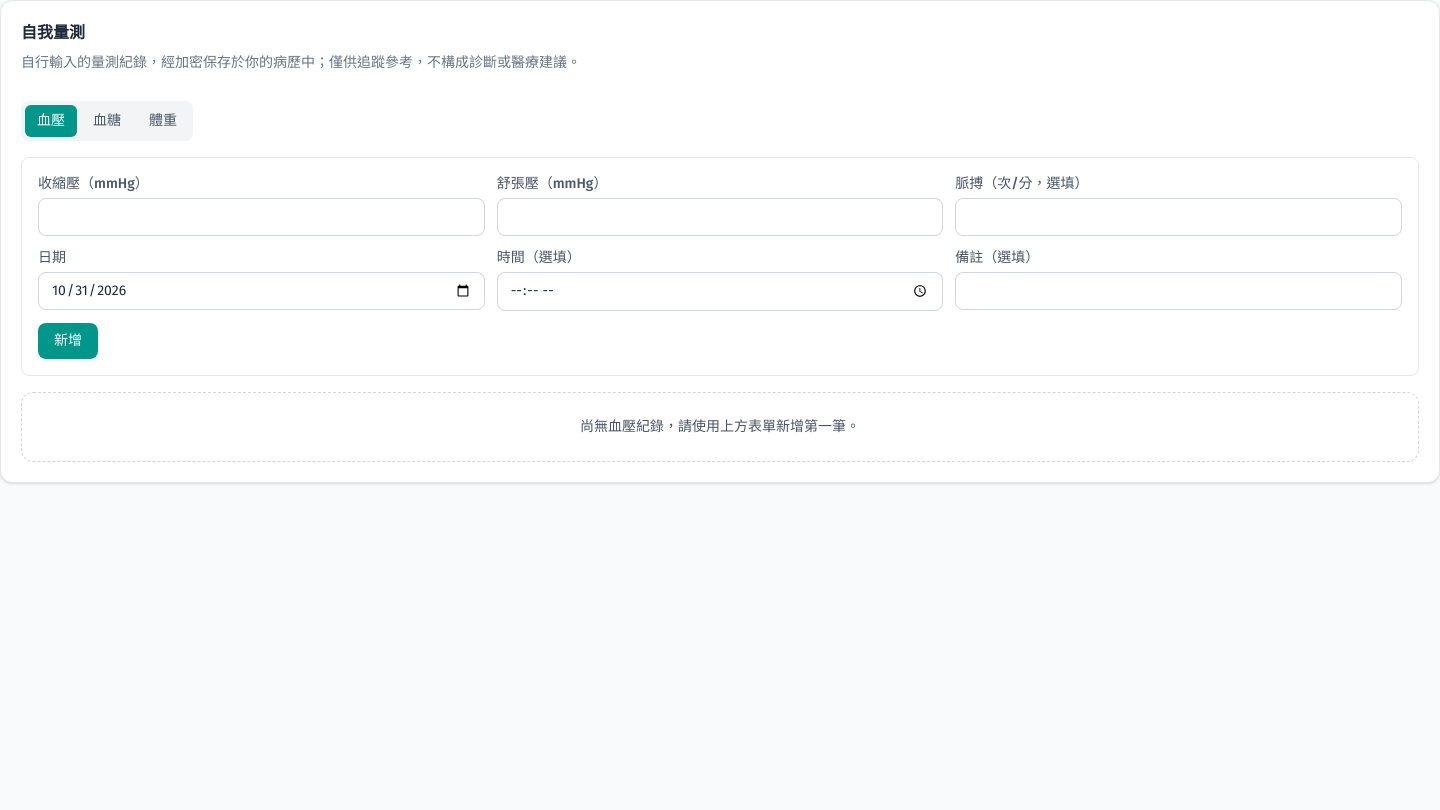
Scenario: Measurements 自我量測 › 新增紀錄 › 新增血壓：出現在清單，數值、時間與備註被重置，日期保留
The width and height of the screenshot is (1440, 810).
Type "125" into the field labelled "收縮壓（mmHg）" at (261, 217), box [38,198,485,236]
Type "80" into the field labelled "舒張壓（mmHg）" at (720, 217), box [497,198,943,236]
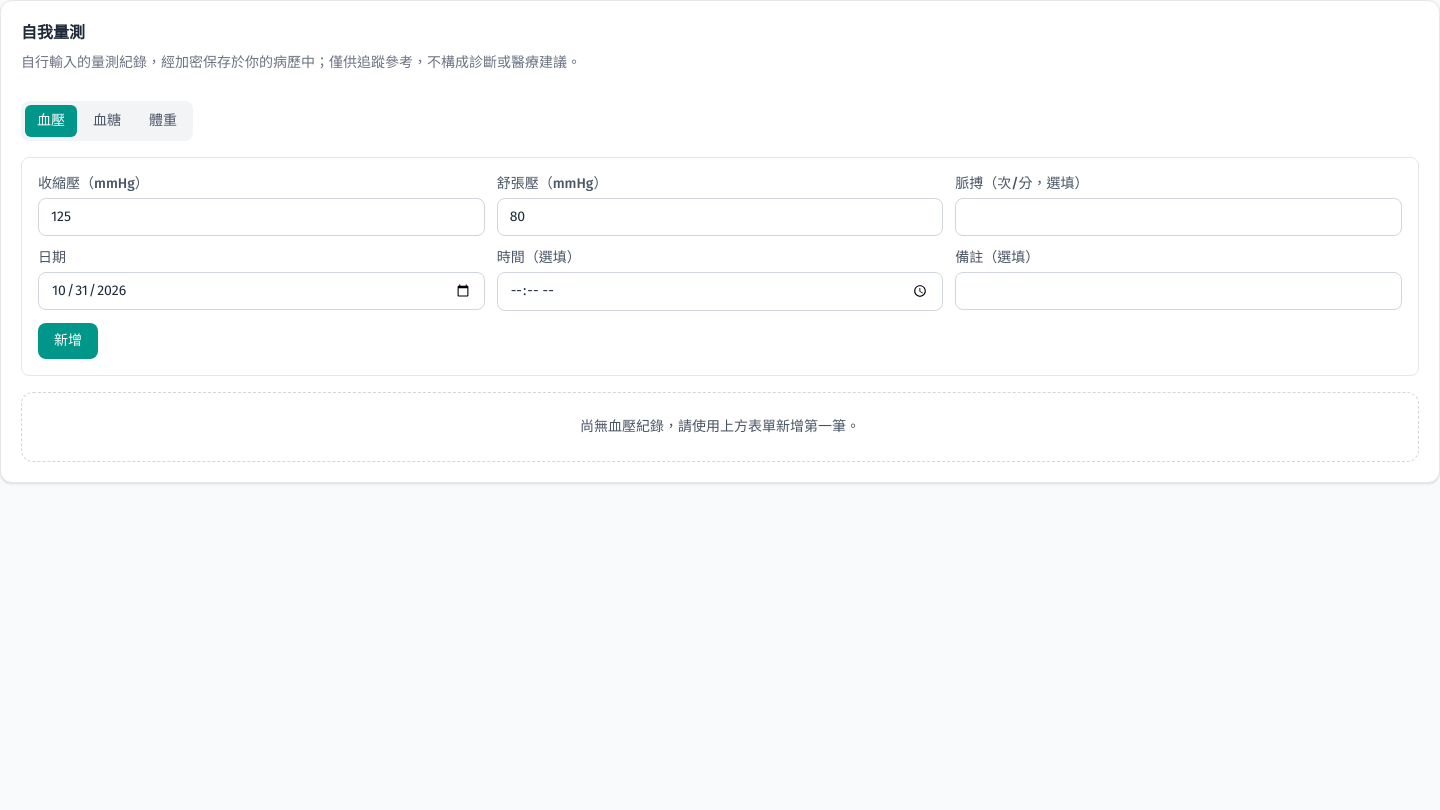
Type "72" into the field labelled "脈搏（次/分，選填）" at (1179, 217), box [955,198,1402,236]
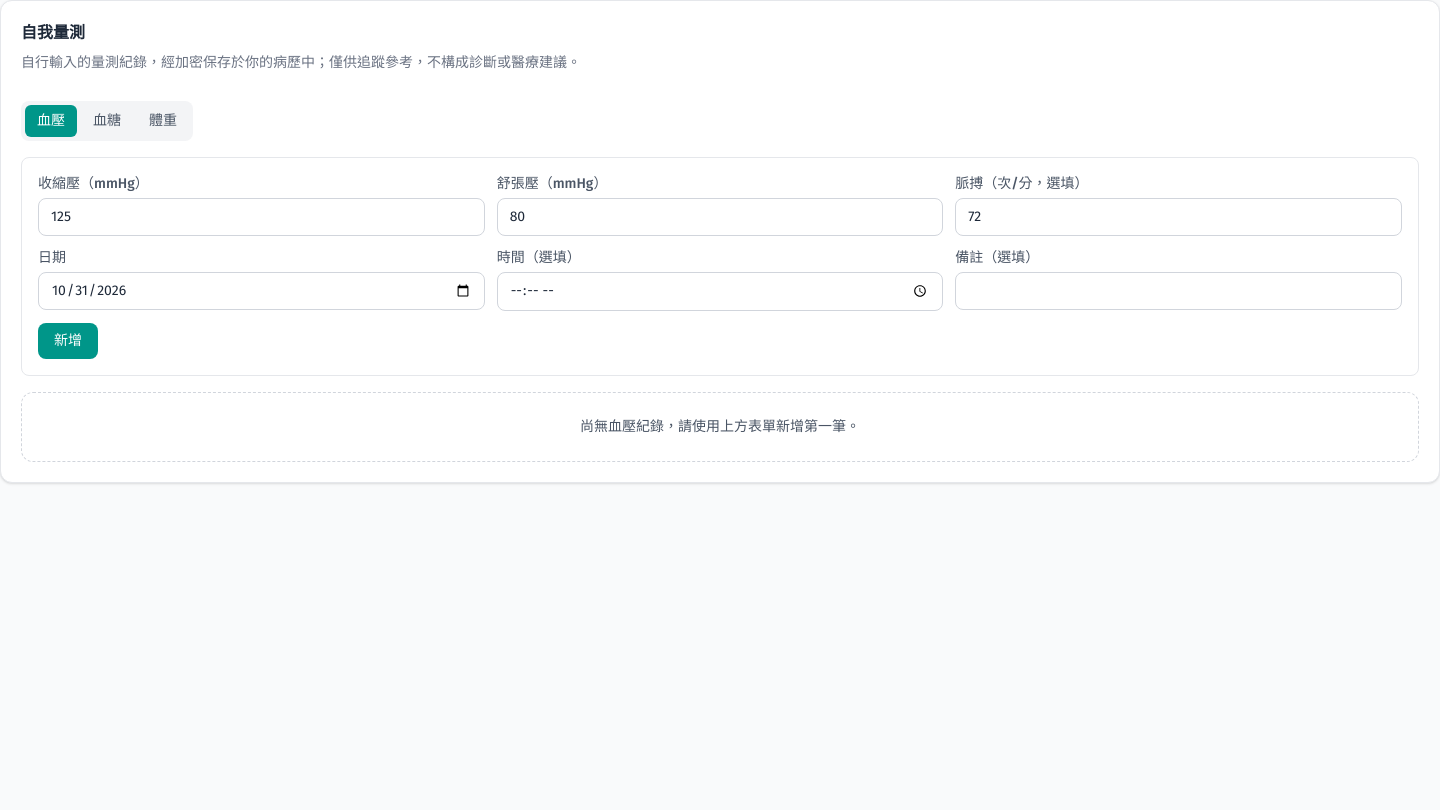
Type "起床後量測" into the field labelled "備註（選填）" at (1179, 291), box [955,272,1402,310]
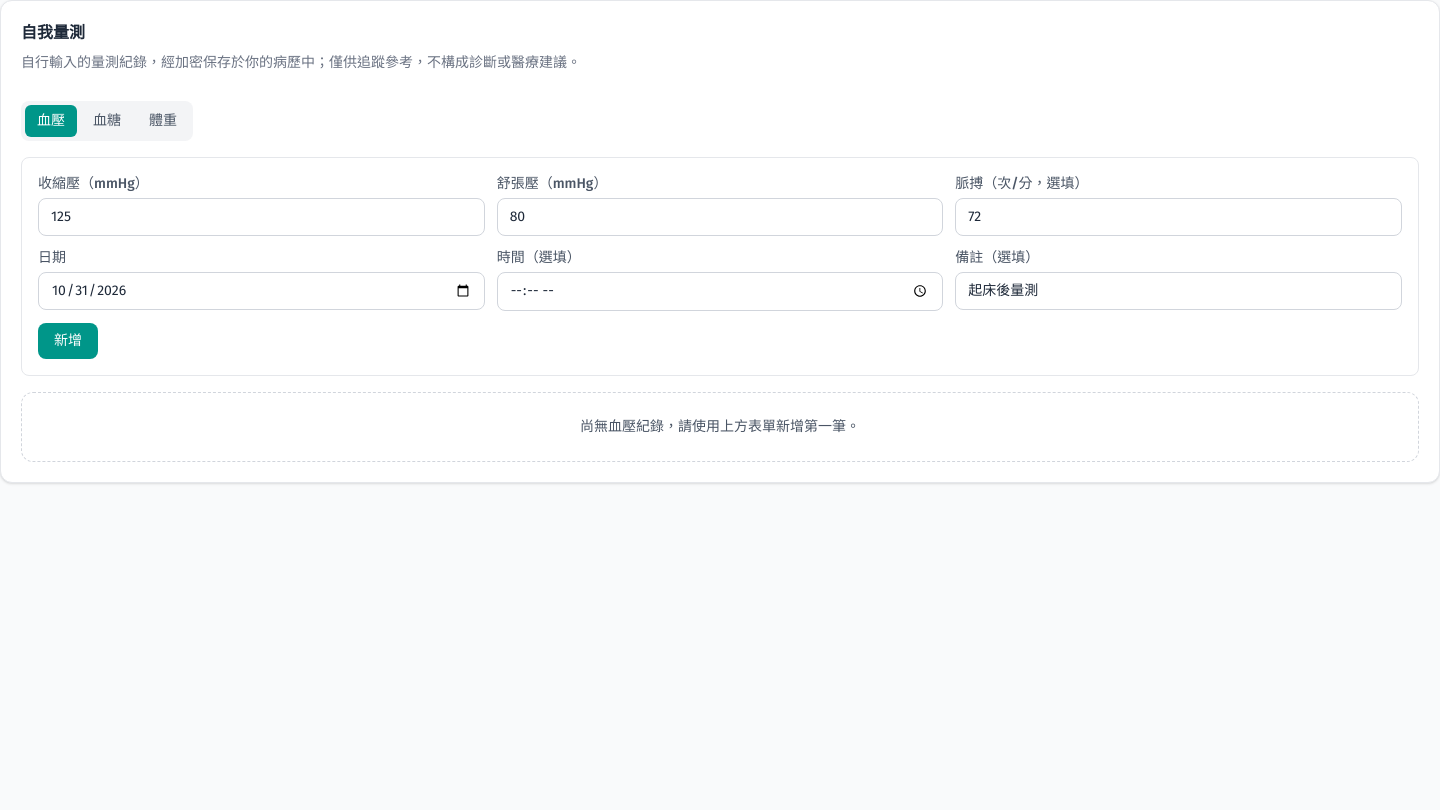
Type "07:30" into the time field labelled "時間（選填）" at (720, 291), box [497,272,943,311]
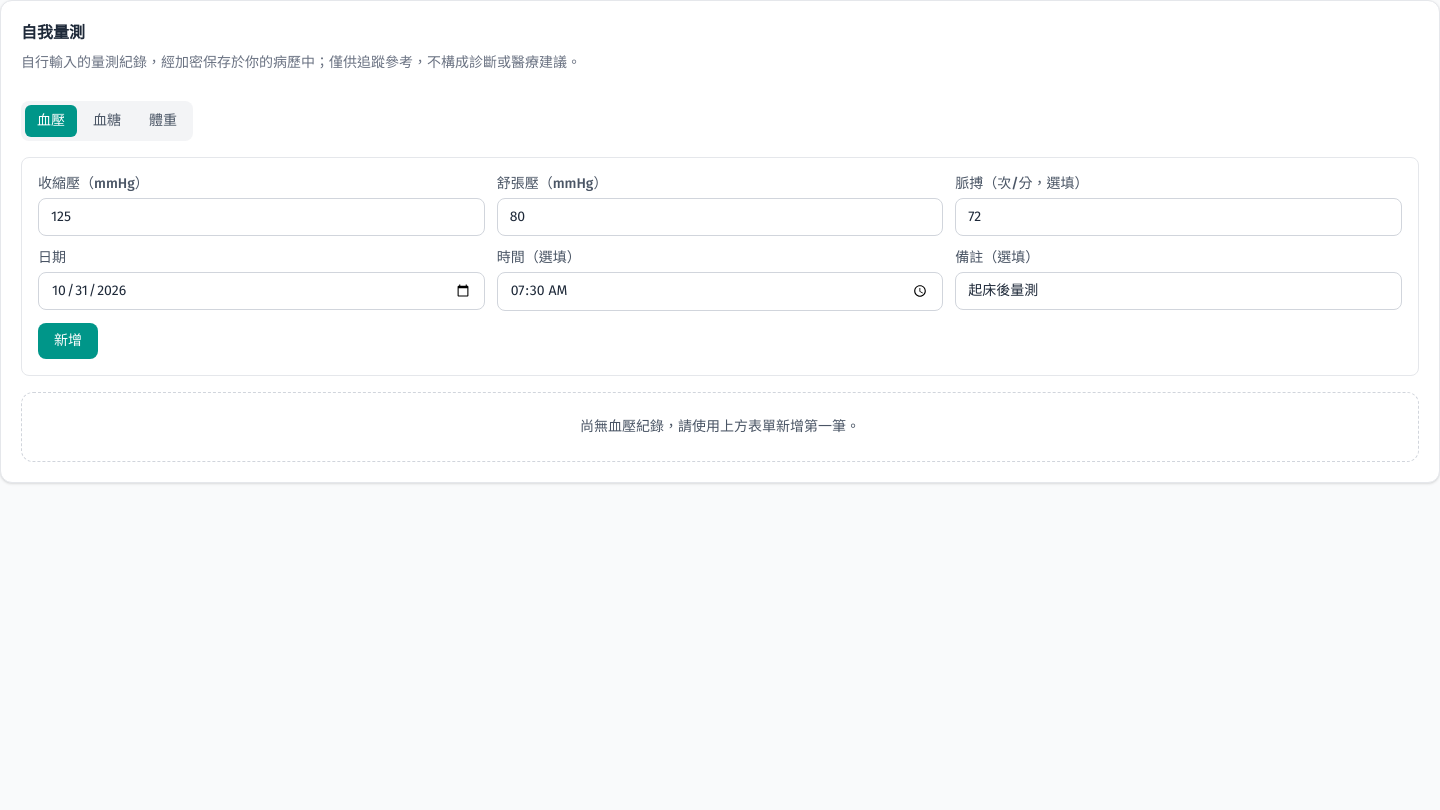
Type "2026-10-30" into the date field labelled "日期" at (261, 291), box [38,272,485,310]
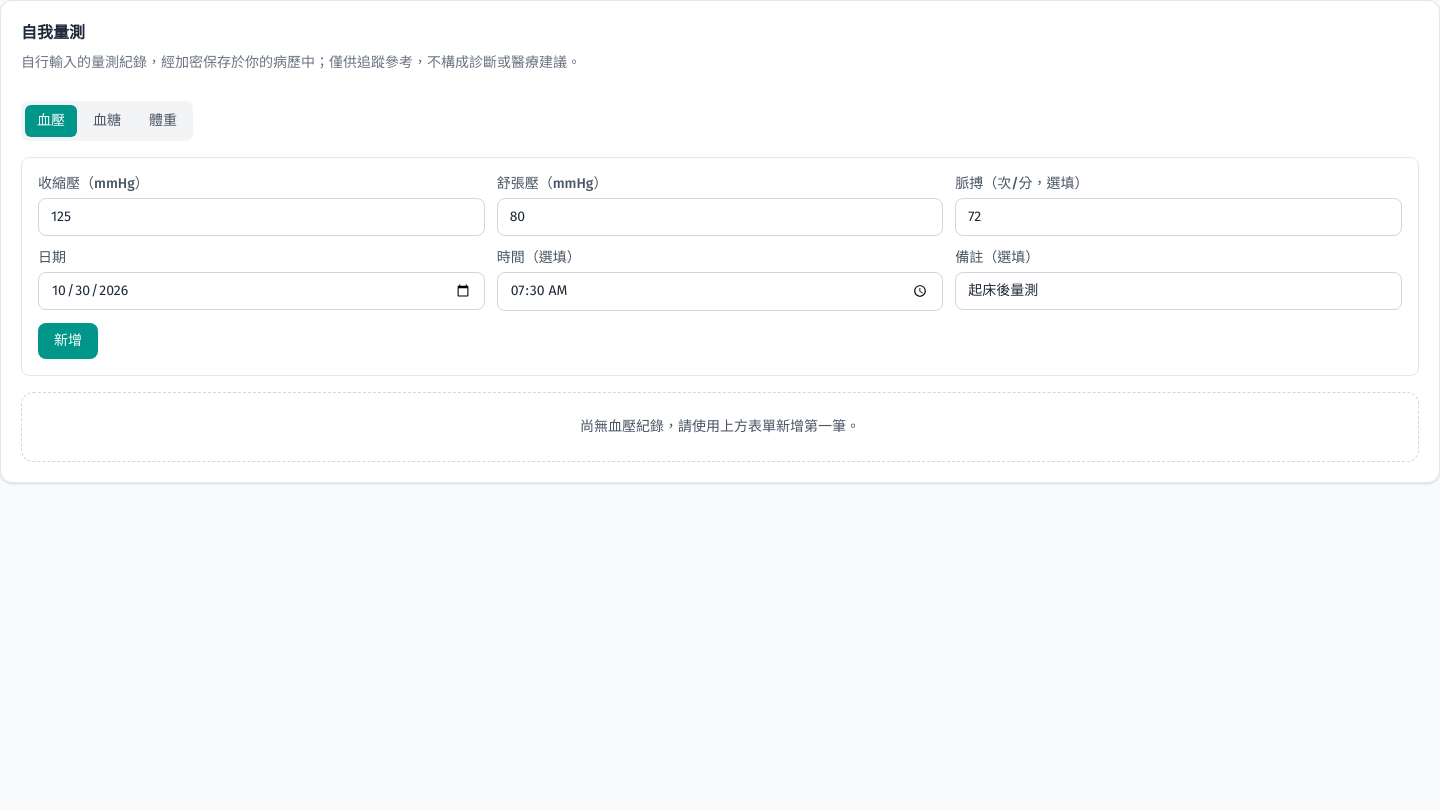
Click the button "新增" at (68, 341), box [38,323,98,359]
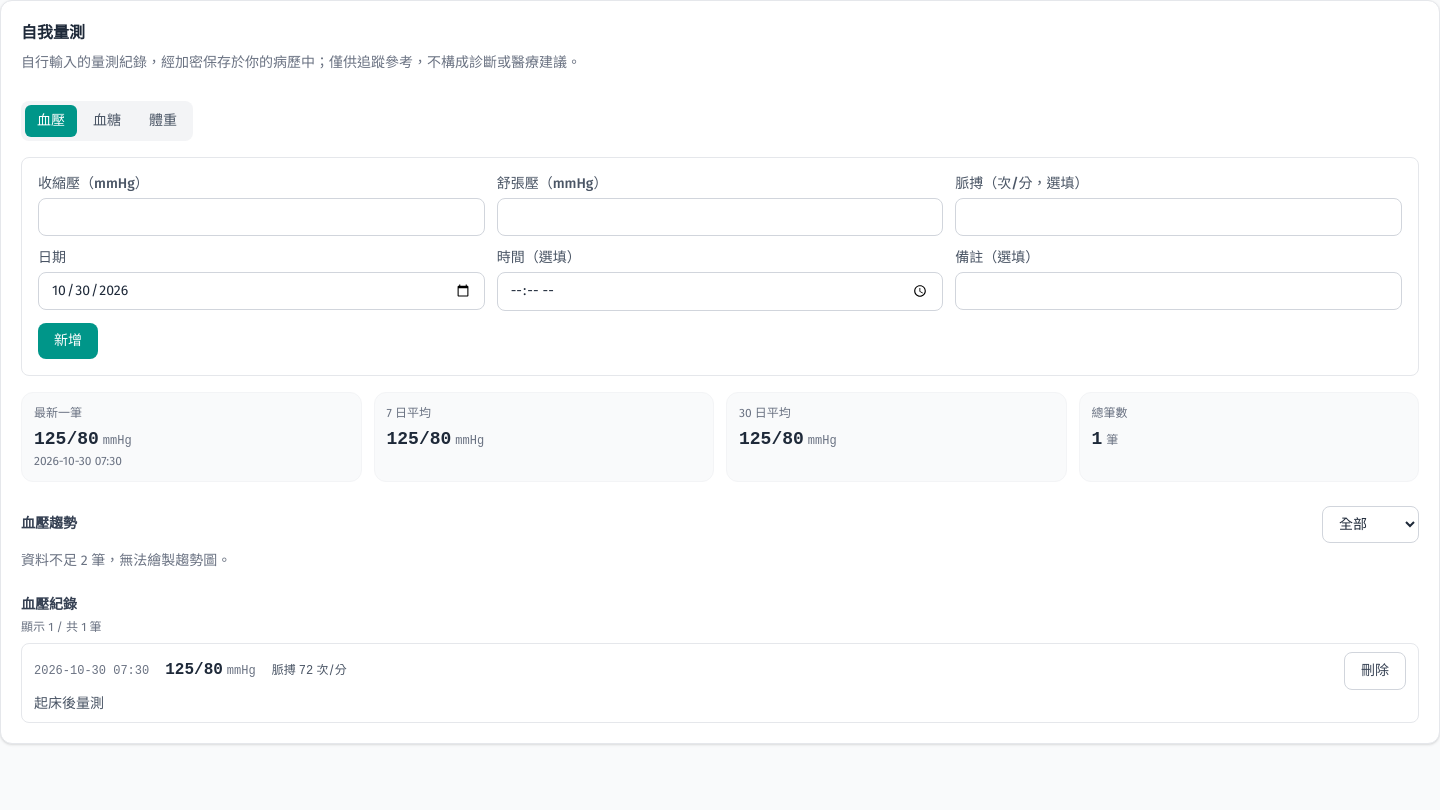
Expected: the list named "血壓紀錄" is shown, [21,643,1419,723]
Expected: the number of list items is 1, [22,644,1418,722]
Expected: the text "2026-10-30 07:30" in the row of "72" is shown, [34,664,149,678]
